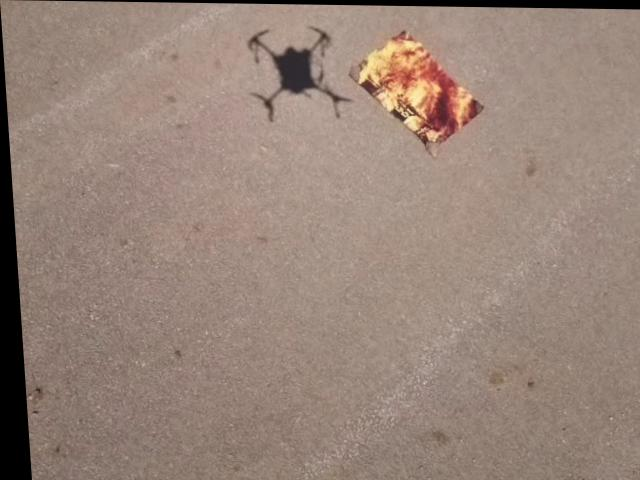fire-poster: (346, 25, 487, 157)
